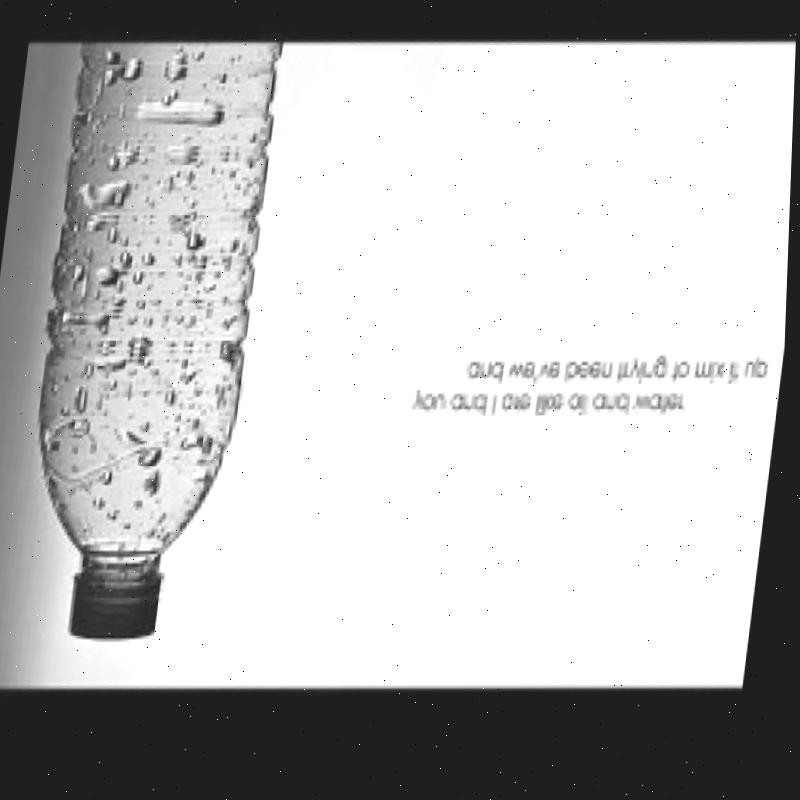botella: (7, 29, 289, 658)
